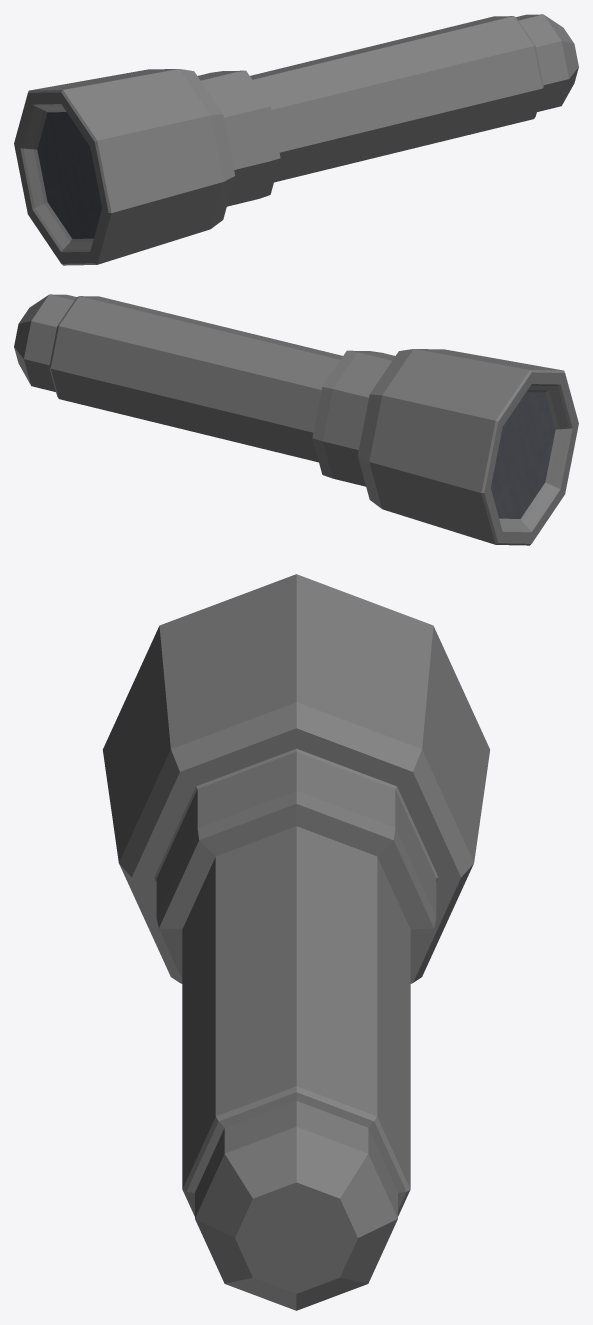
The model's file is Flashlight.fbx.
3 renders of one model, top to bottom at view 1: azimuth 30°, elevation 25°; view 2: azimuth 150°, elevation 25°; view 3: azimuth 270°, elevation 25°, orthographic. The views are drawn at different scales.
Parts seen in each view (by area): view 1: Flashlight; view 2: Flashlight; view 3: Flashlight.
Boxes of the visible parts, left/top/right/bottom form: Flashlight: left=14, top=14, right=578, bottom=265; Flashlight: left=14, top=294, right=578, bottom=545; Flashlight: left=103, top=574, right=489, bottom=1310.
Bounding box in the file's own units: 84.67 × 28.29 × 28.29.
